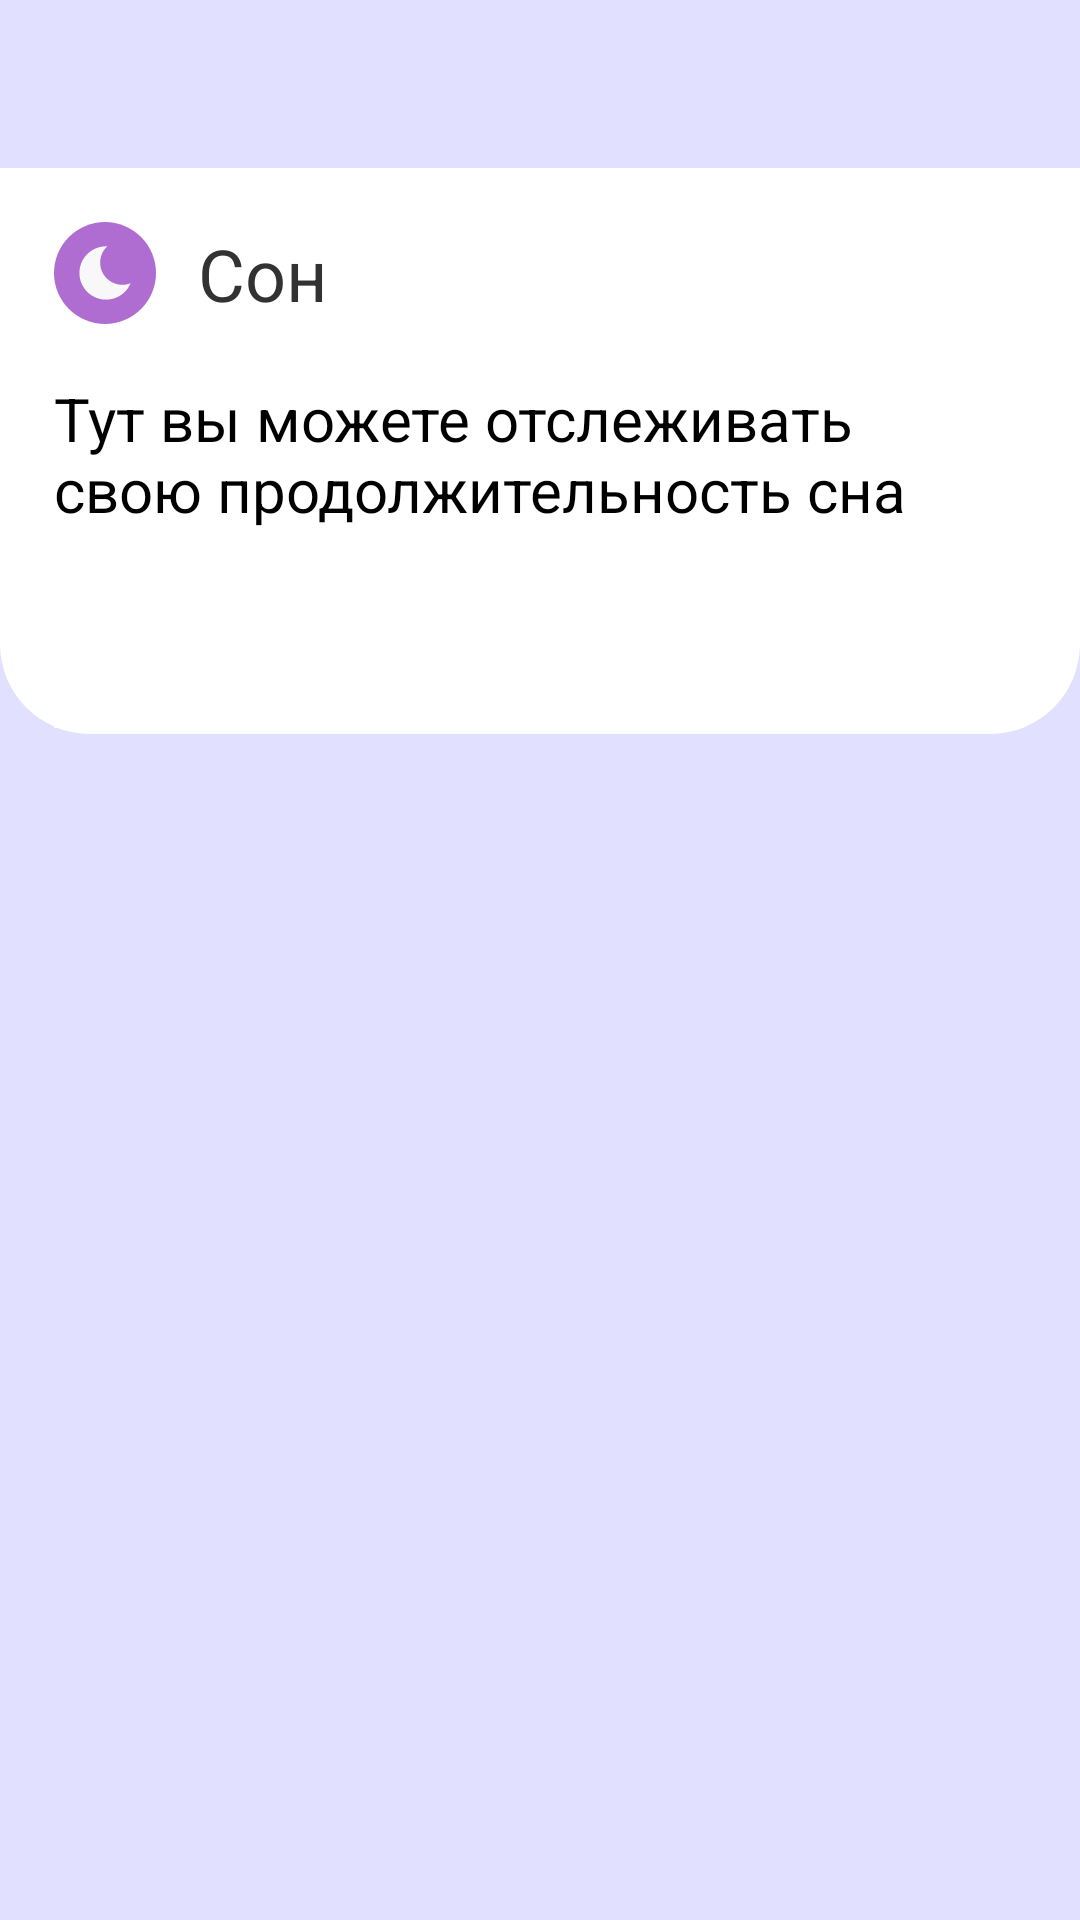

Icons on this 1080px x 1920px Android screen, each with its box as (x1, y1, x2, y2):
widget sleep: (54, 222, 156, 324)
